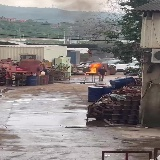fire: (86, 63, 101, 73)
